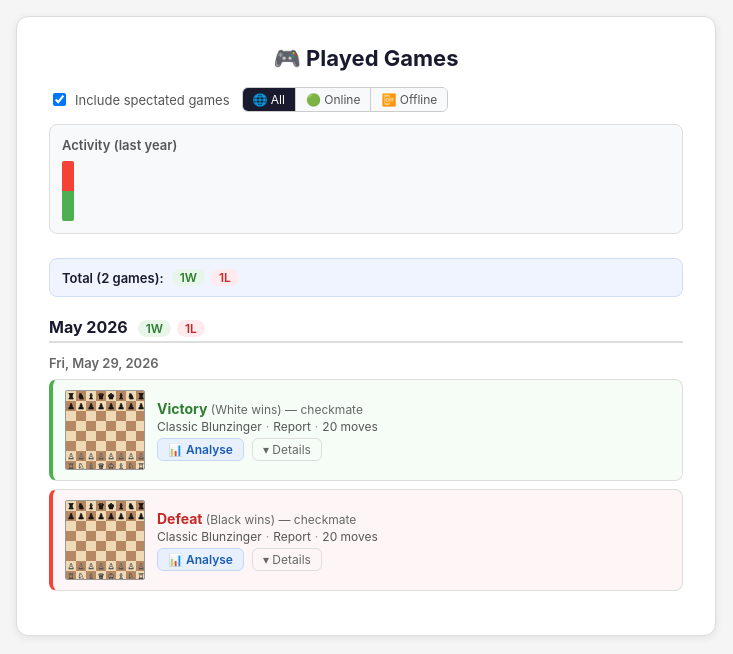
Test: PlayedGamesSection › connection filter (online/offline) › shows only offline games when "Offline" is selected
Click "Offline" filter
Click the radio button labelled "📴 Offline": coordinates (409, 100) [372,88,447,111]
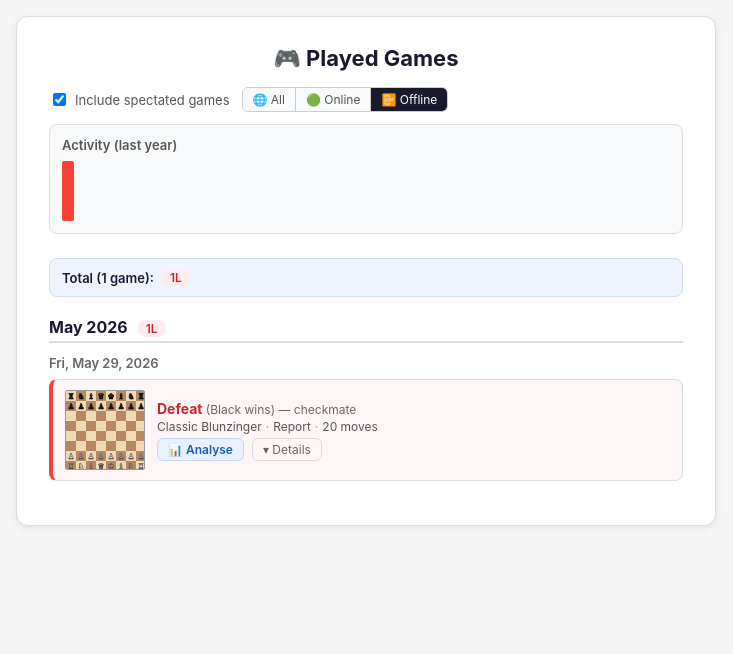
expect the text "Defeat" is shown: met, box [157,400,202,416]
expect the text "Total (1 game):" is shown: met, box [62,270,154,286]
